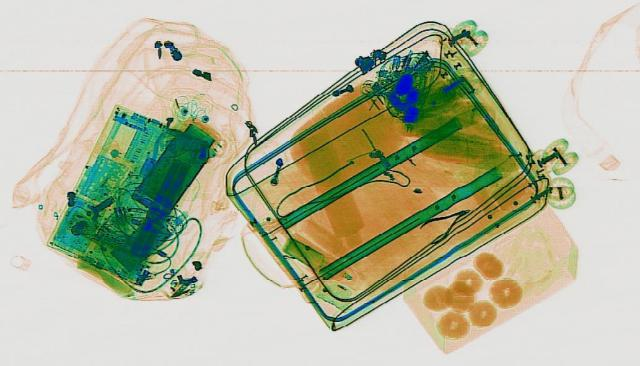Pliers: (406, 202, 484, 241)
